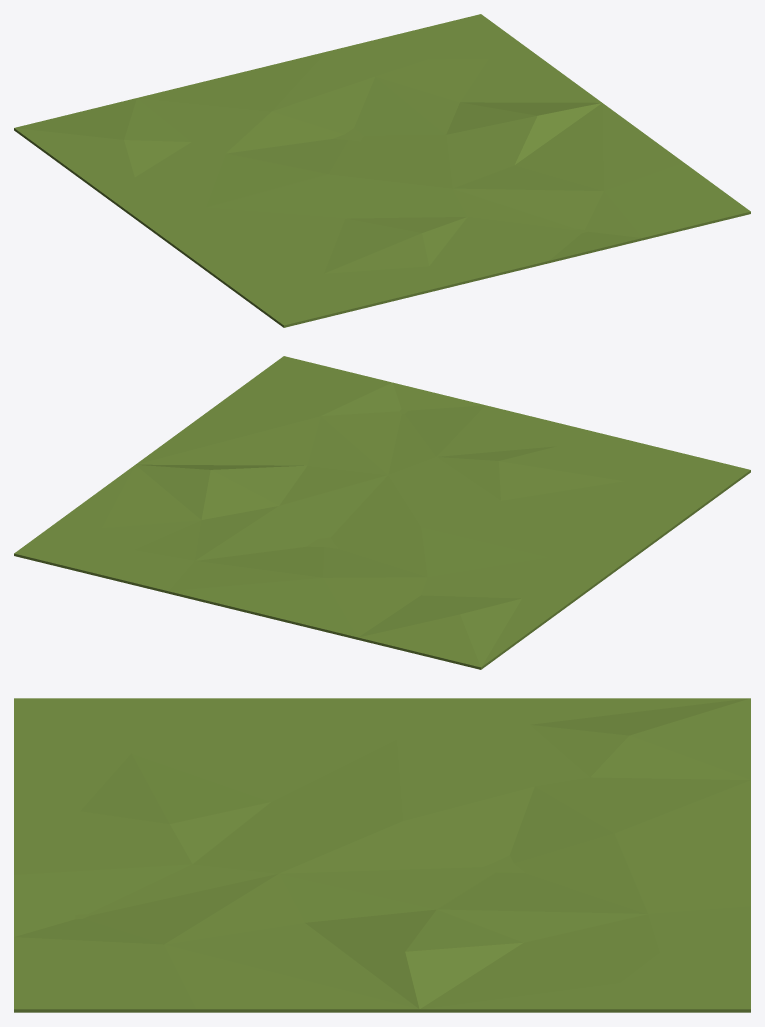
File: Grass_Module_1M.glb
The picture shows the model from 3 angles, top to bottom: view 1: azimuth 30°, elevation 25°; view 2: azimuth 150°, elevation 25°; view 3: azimuth 270°, elevation 25°; orthographic projection. The views are drawn at different scales.
Parts seen in each view (by area): view 1: Grass_Module_1M; view 2: Grass_Module_1M; view 3: Grass_Module_1M.
Boxes of the visible parts, box(x1,y1,x2,y2) form: Grass_Module_1M: box(14, 14, 750, 327); Grass_Module_1M: box(14, 356, 750, 669); Grass_Module_1M: box(14, 698, 750, 1012).
Size of what is drawn, in the model's own units: 1 by 0.0222 by 1.
Materials: 1 (1 with a texture image).
